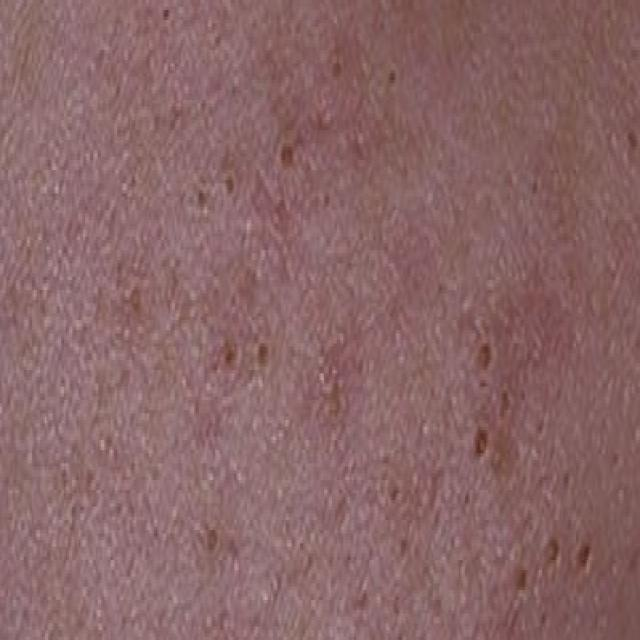blackhead: (473, 421, 488, 460), (478, 335, 493, 372), (204, 521, 219, 557), (498, 384, 511, 421), (222, 342, 236, 373), (279, 142, 294, 170), (128, 280, 141, 312), (220, 605, 232, 638), (201, 606, 215, 634), (514, 567, 528, 593), (160, 5, 175, 28), (221, 175, 235, 198), (578, 543, 590, 567), (546, 541, 559, 561), (257, 343, 268, 366), (626, 129, 638, 150), (563, 470, 575, 489), (196, 189, 208, 207), (332, 60, 342, 80), (388, 485, 399, 502), (387, 68, 396, 88), (399, 538, 408, 557), (322, 191, 331, 209), (530, 178, 539, 196), (464, 490, 470, 504), (519, 389, 525, 402), (540, 612, 546, 625)
